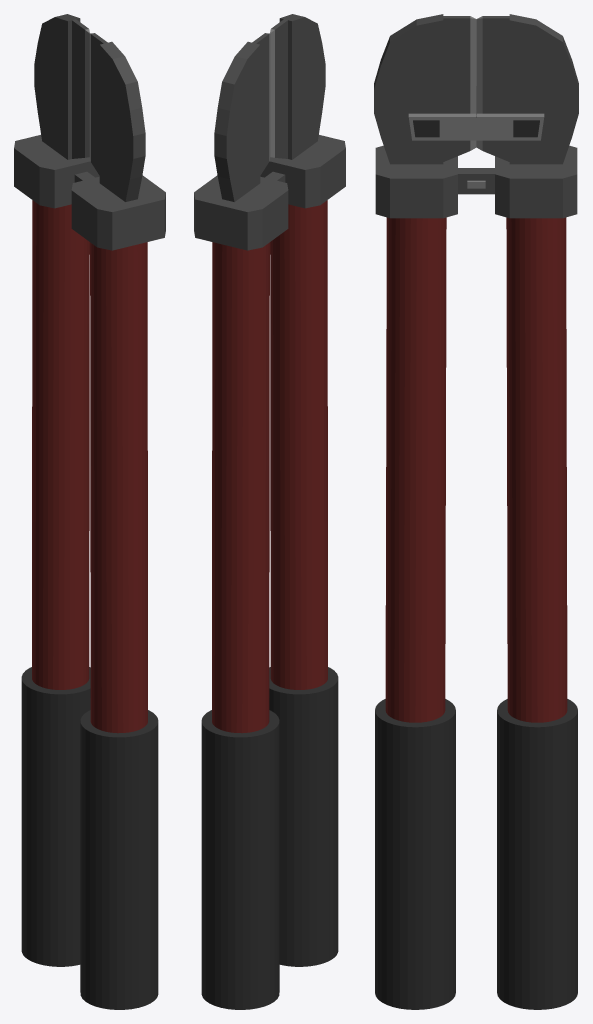
Rendered from WireCutter.fbx.
3 renders of one model, left to right at view 1: azimuth 30°, elevation 25°; view 2: azimuth 150°, elevation 25°; view 3: azimuth 270°, elevation 25°, orthographic. The views are drawn at different scales.
Parts seen in each view (by area): view 1: Cylinder; view 2: Cylinder; view 3: Cylinder.
Boxes of the visible parts, bbox=[...] form: Cylinder: bbox=[14, 14, 165, 1009]; Cylinder: bbox=[194, 14, 345, 1009]; Cylinder: bbox=[374, 14, 578, 1009].
Size of the model in its own units: 275 by 3603 by 686.
